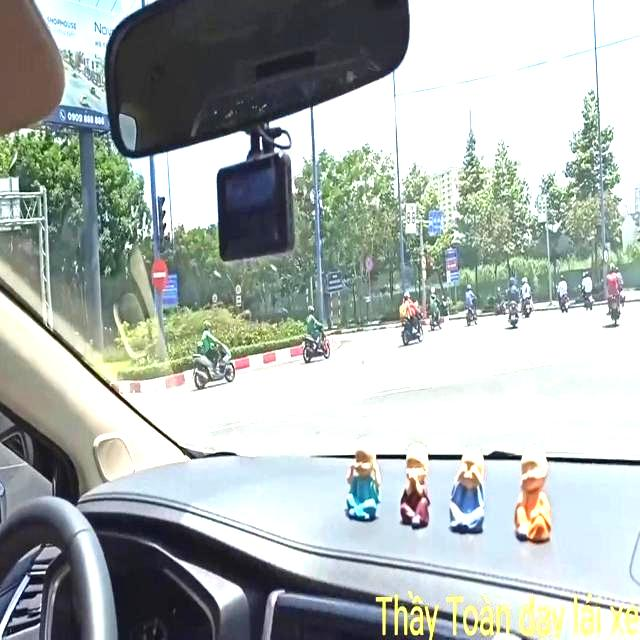Cấm các phương tiện hoạt động trong khung giờ cố định: (403, 195, 418, 237), (535, 191, 548, 224)
Cấm dừng - Cấm đỗ: (363, 253, 373, 273)
Cấm xe máy: (418, 251, 428, 268)
Cấm đi ngược chiều: (151, 254, 168, 292)
Khác: (443, 248, 460, 287), (323, 270, 345, 290)
Làn đường cho từng xe: (428, 207, 441, 235)
